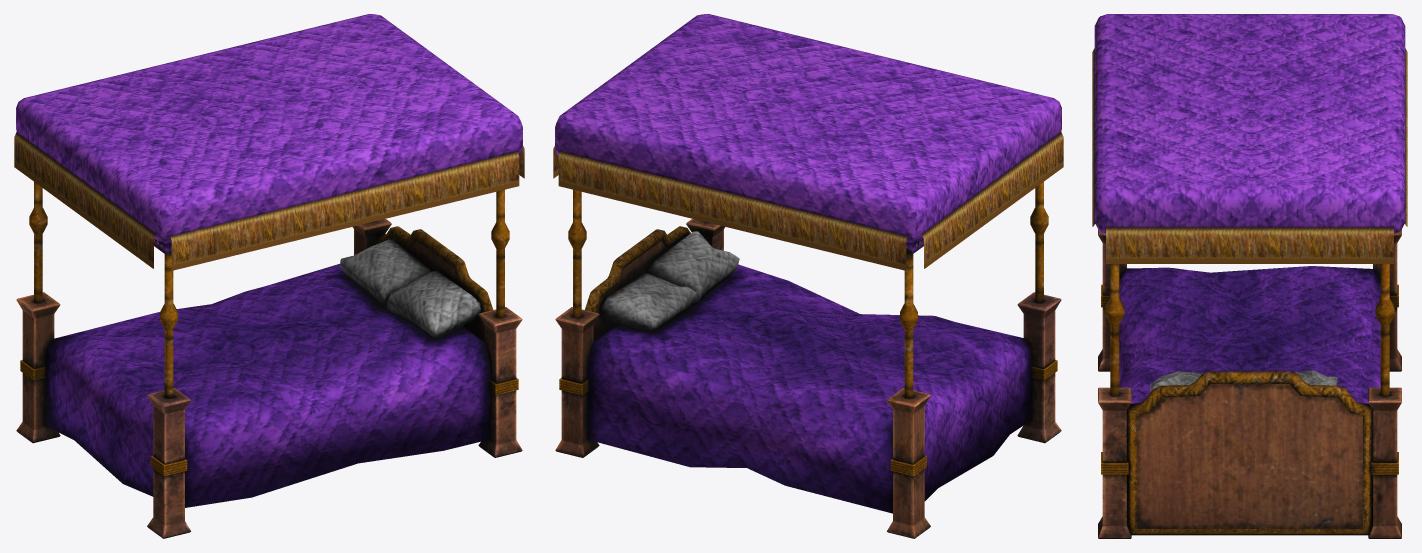
The model's file is bed_nice_purple.dae.
3 renders of one model, left to right at view 1: azimuth 30°, elevation 25°; view 2: azimuth 150°, elevation 25°; view 3: azimuth 270°, elevation 25°, orthographic. The views are drawn at different scales.
Parts seen in each view (by area): view 1: bed_nice_mesh; view 2: bed_nice_mesh; view 3: bed_nice_mesh.
Boxes of the visible parts, left/top/right/bottom form: bed_nice_mesh: left=14, top=14, right=524, bottom=538; bed_nice_mesh: left=553, top=14, right=1063, bottom=538; bed_nice_mesh: left=1092, top=14, right=1407, bottom=538.
Bounding box in the file's own units: 3.42 × 2.95 × 2.43.
